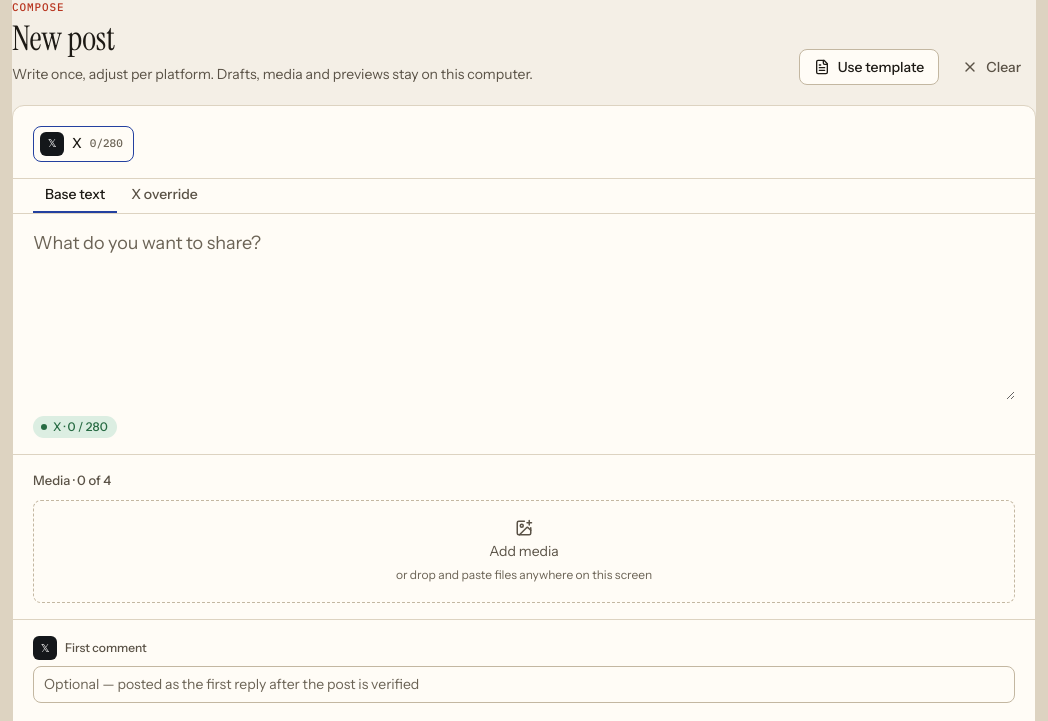
Test case: Composer › resolves template variables into the editor
Click the button "Use template".
click(869, 67)  # box 799,49 -> 939,85
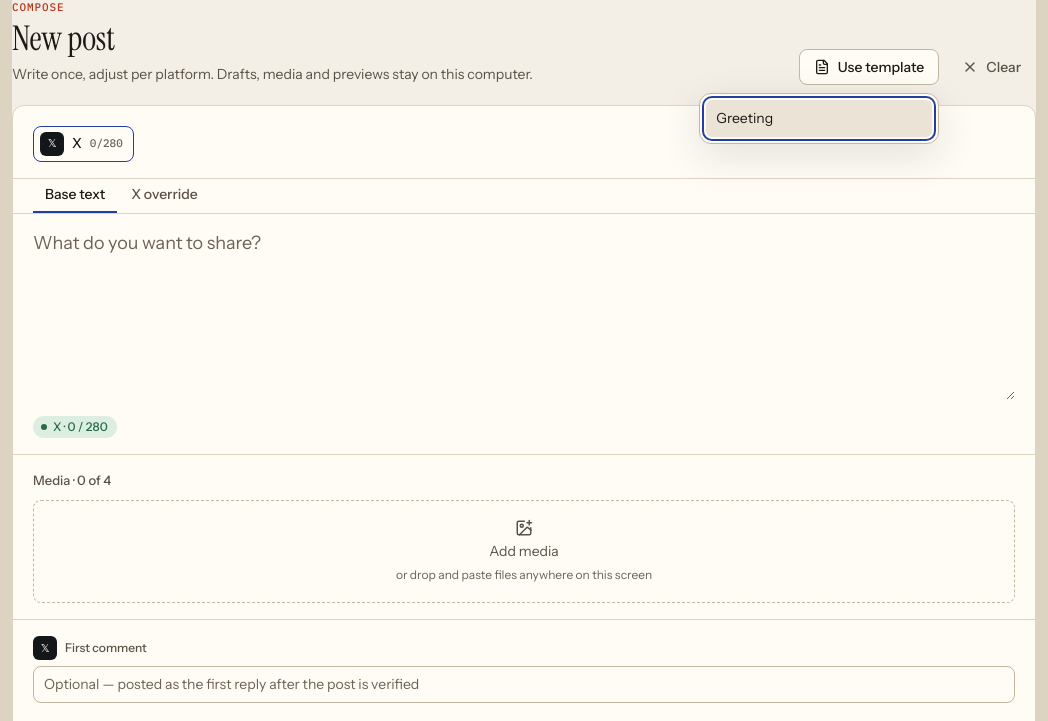
Click the menu item "Greeting".
click(819, 118)  # box 706,100 -> 932,137
(page scrolled)
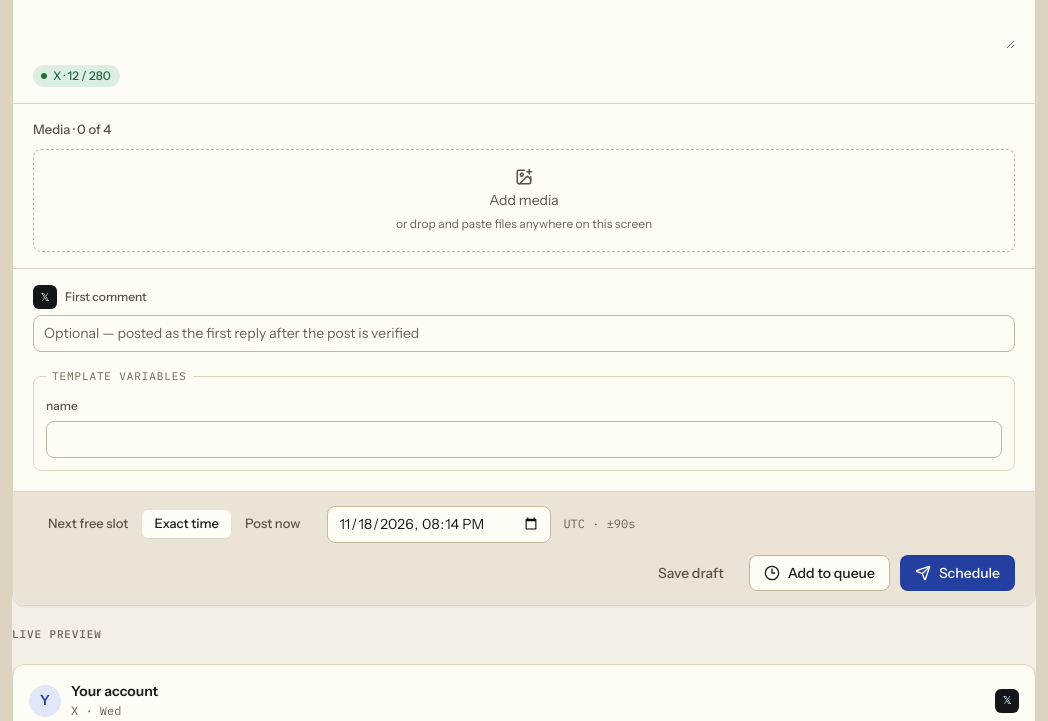
Type "Ada" into the field labelled "name".
click(524, 439); type("Ada")  # box 46,421 -> 1002,458
(page scrolled)
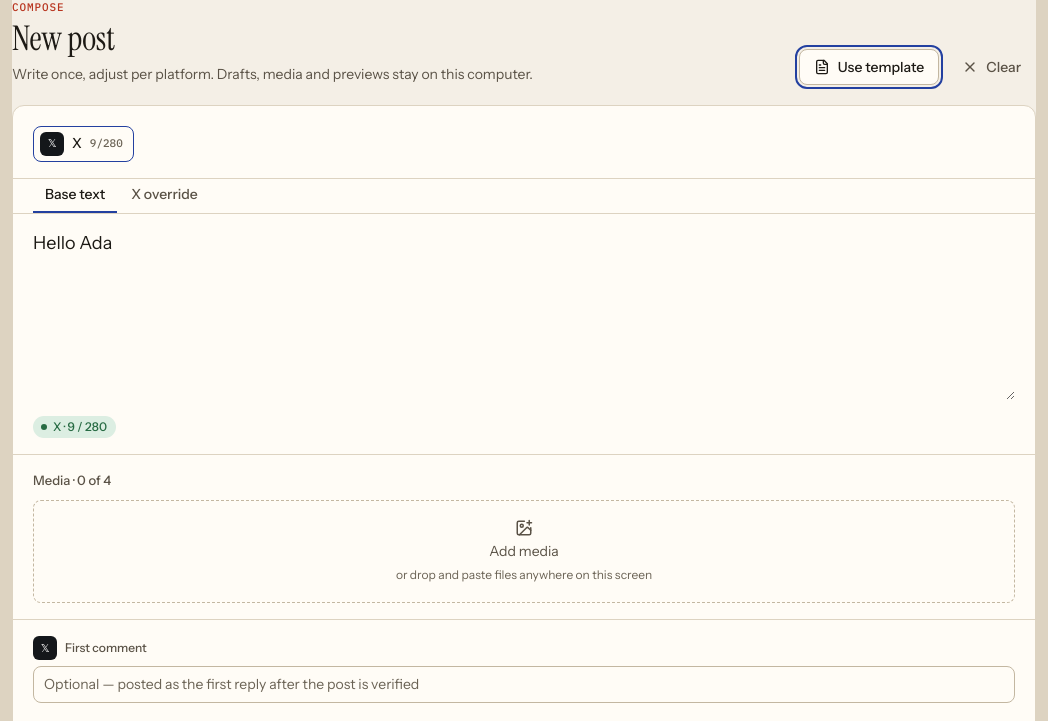
Check: the text box named "Post text" holds "Hello Ada", box 33,230 -> 1015,400
